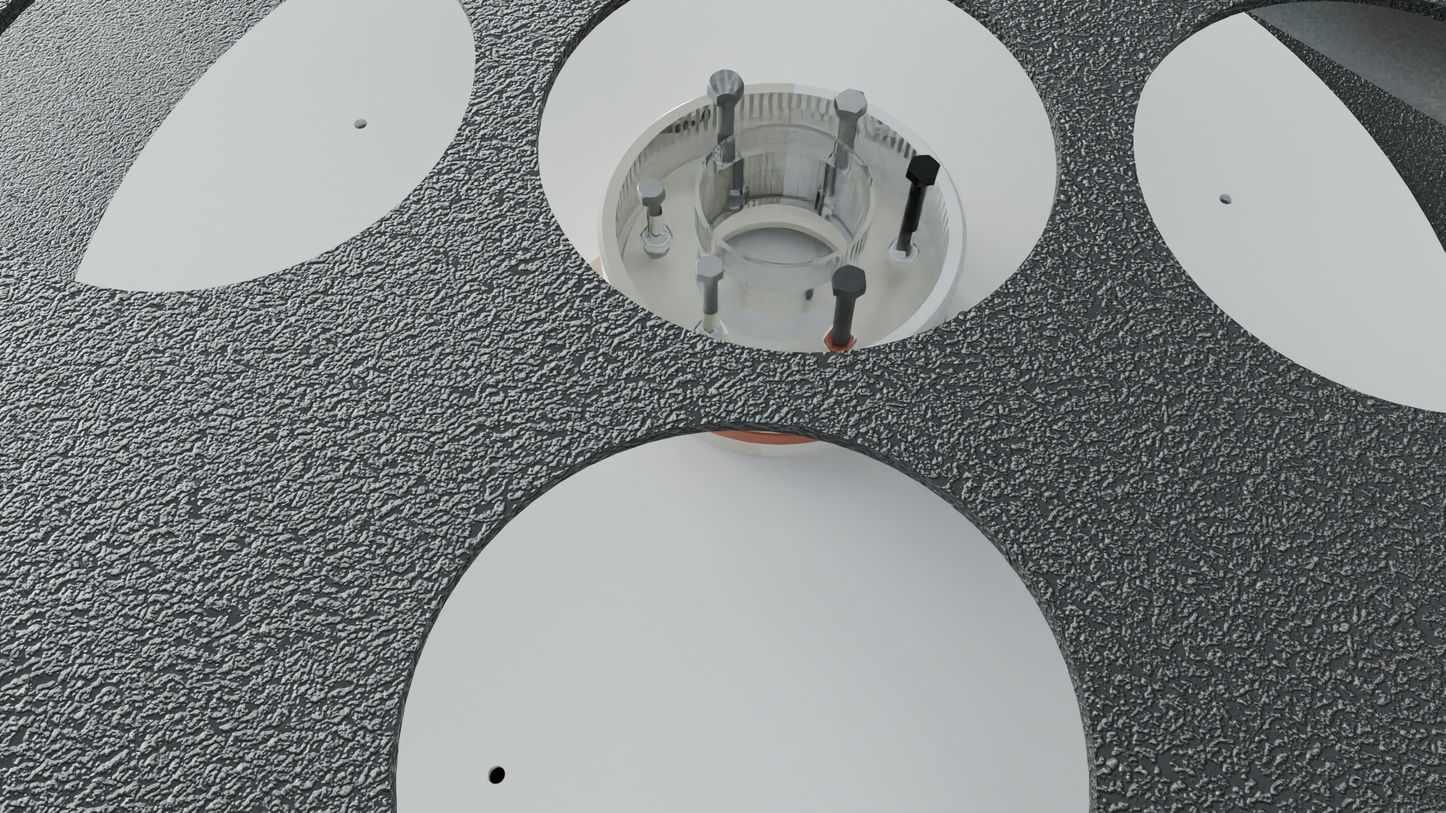bolt: (832, 264, 867, 295), (707, 69, 744, 96), (908, 154, 941, 180), (834, 88, 868, 113), (696, 254, 724, 279), (637, 178, 665, 200)
